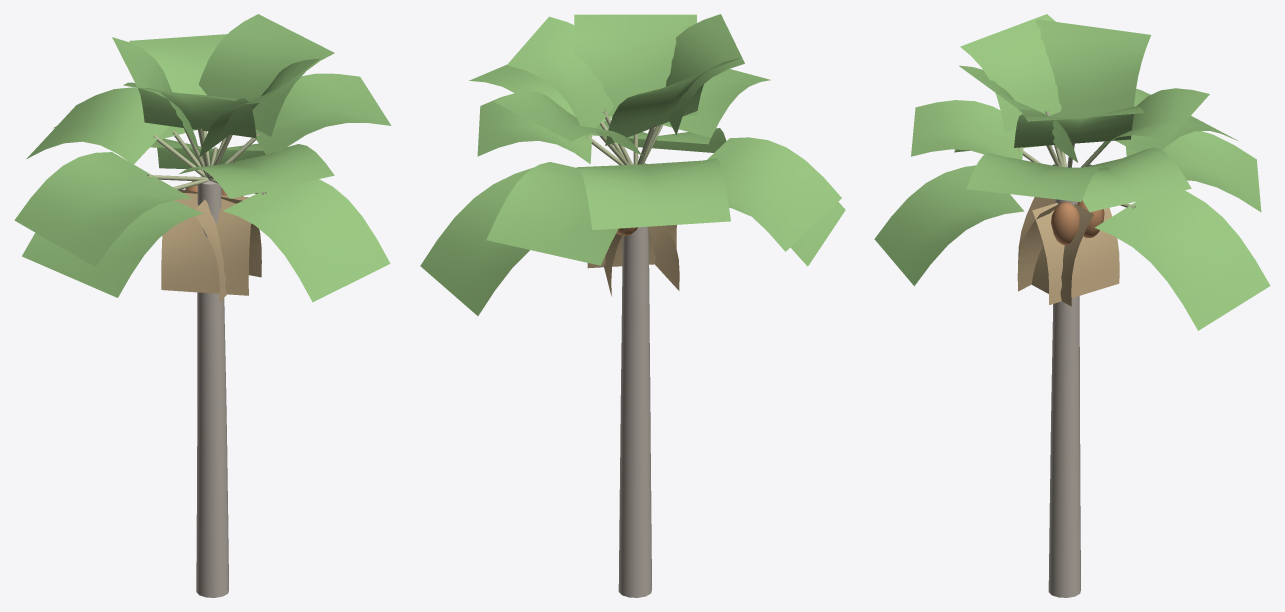
Rendered from buriti_soft_a.glb.
The picture shows the model from 3 angles, left to right: view 1: azimuth 30°, elevation 25°; view 2: azimuth 150°, elevation 25°; view 3: azimuth 270°, elevation 25°; orthographic projection. The views are drawn at different scales.
Visible parts, largest first — view 1: buriti_soft_a, trunk; view 2: buriti_soft_a, trunk; view 3: buriti_soft_a, trunk.
Boxes of the visible parts, x1,y1,x2,y2 form: buriti_soft_a: (14,14,391,302); trunk: (196,176,228,597); buriti_soft_a: (420,14,845,315); trunk: (618,226,651,597); buriti_soft_a: (874,14,1270,330); trunk: (1048,199,1080,597).
Size of the model in its own units: 7.02 by 10.71 by 7.26.
